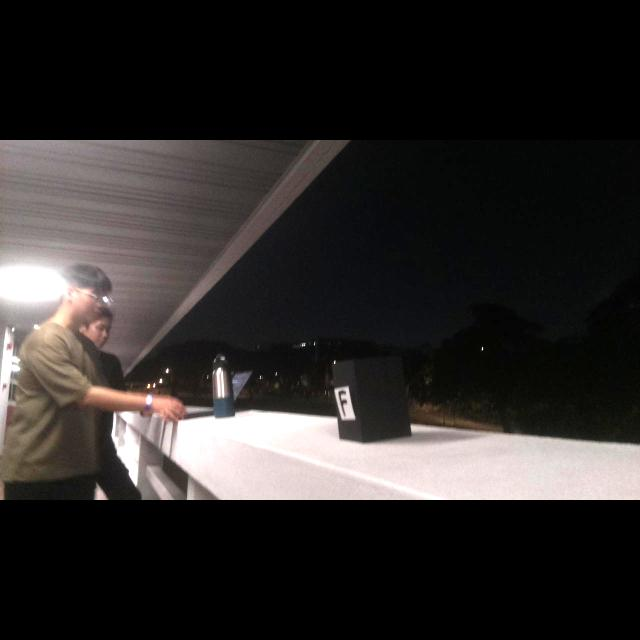F: (338, 391, 348, 417)
